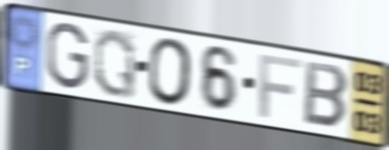6: (197, 44, 242, 116)
B: (301, 58, 351, 131)
F: (257, 52, 303, 121)
G: (45, 20, 91, 91)
O: (147, 36, 194, 108)
Q: (92, 26, 138, 102)
